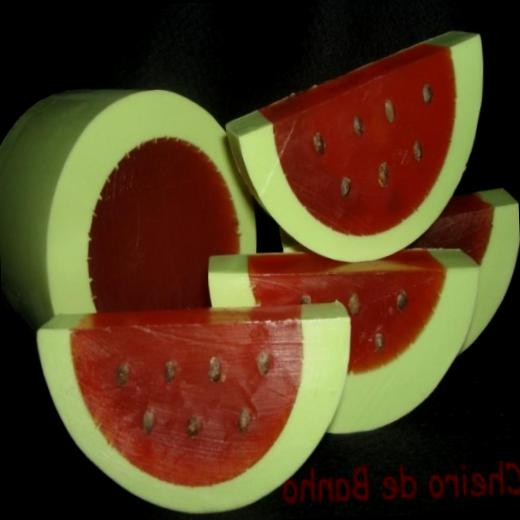Cherry: (37, 301, 356, 519), (0, 81, 261, 334), (222, 26, 492, 264), (206, 245, 486, 440), (278, 182, 520, 357)
